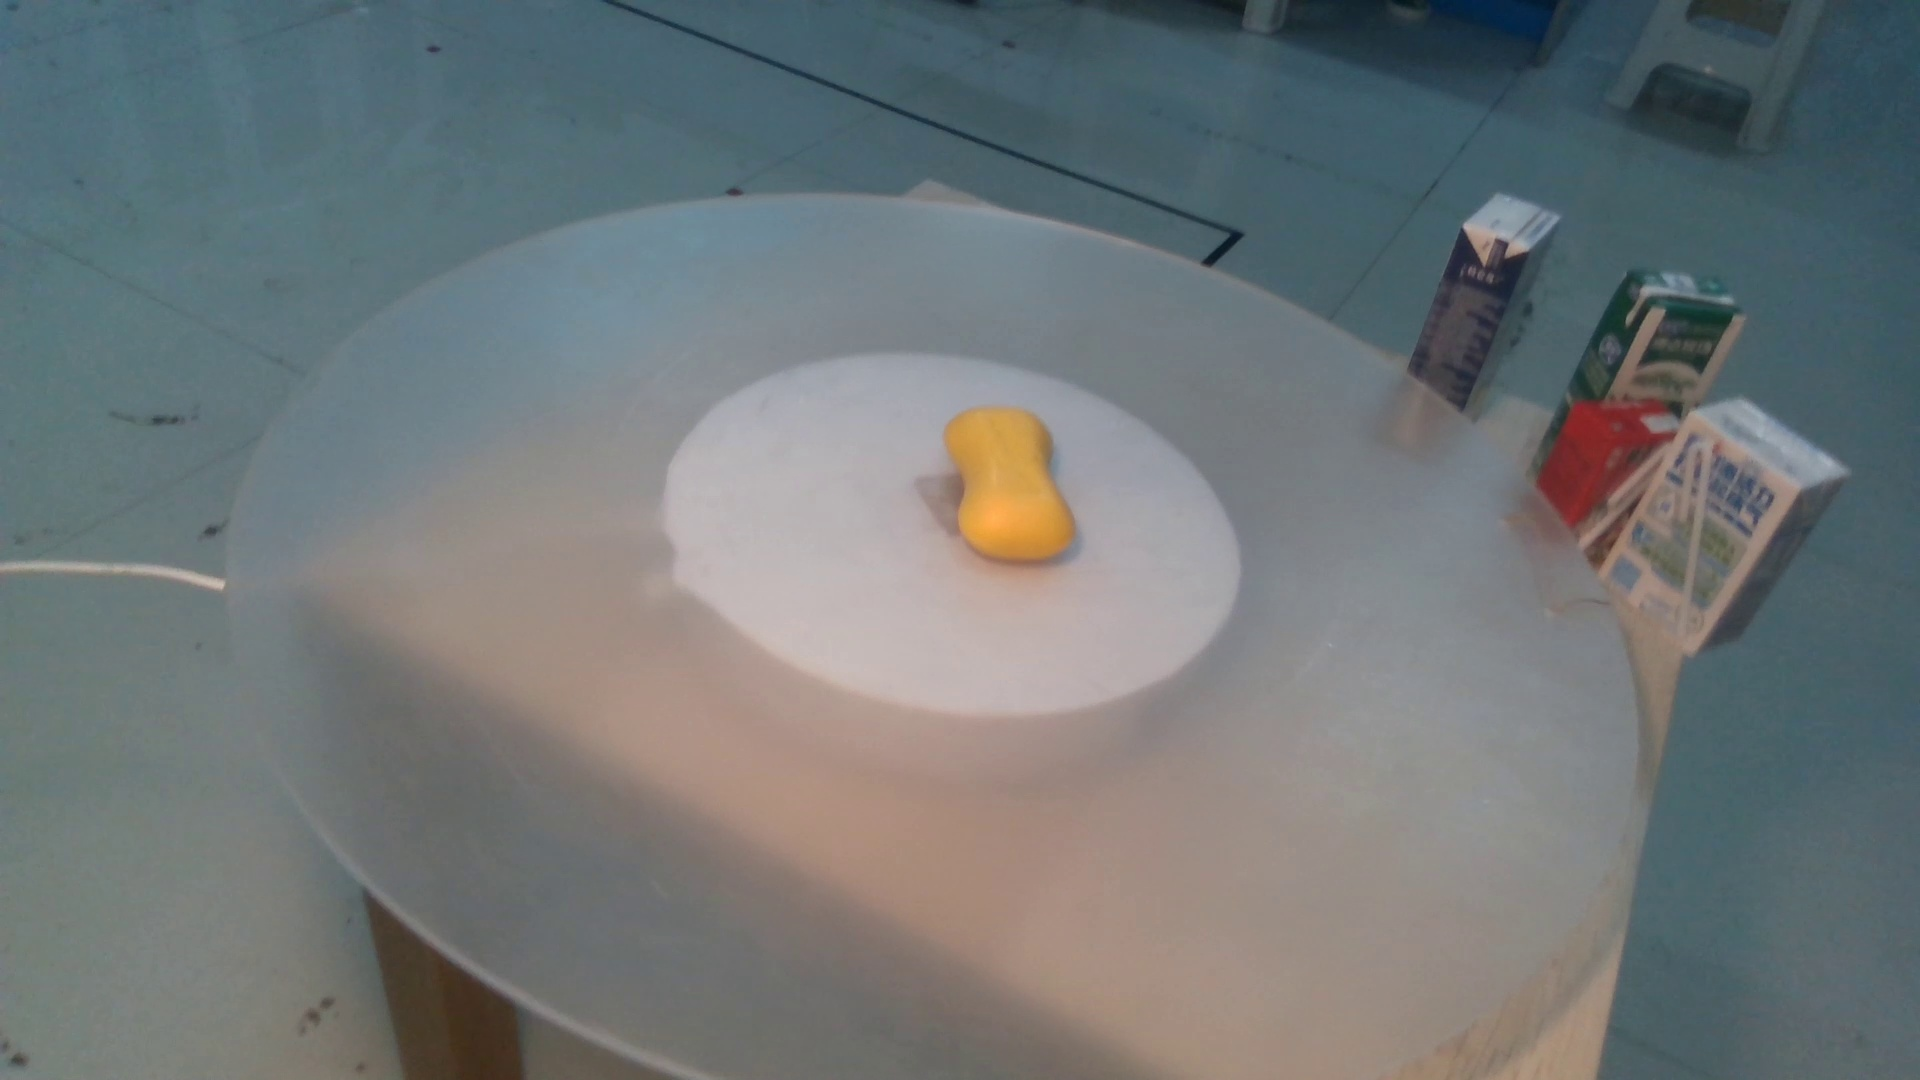CA003_1: (923, 392, 1112, 580)
